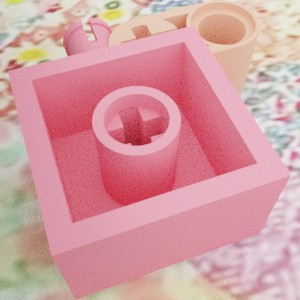lego: (7, 17, 290, 299), (108, 0, 259, 123)
